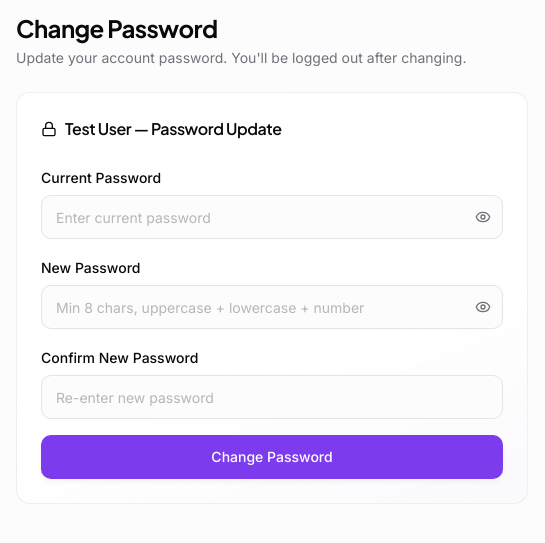
Test: ChangePasswordPage › shows validation error for short new password
This screenshot has width=545, height=543.
In the password field labelled "Current Password": (272, 217) [41,195,503,239], type "OldPass123"
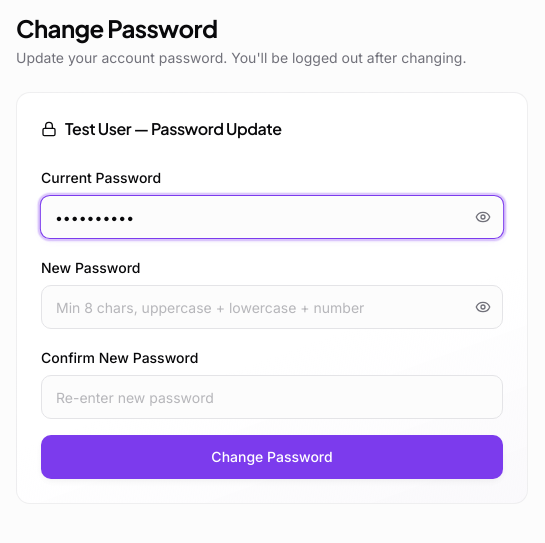
In the password field labelled "New Password": (272, 307) [41,285,503,329], type "short"
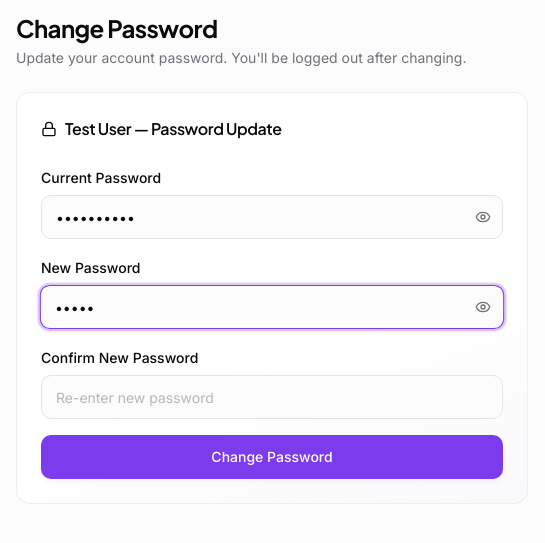
In the password field labelled "Confirm New Password": (272, 397) [41,375,503,419], type "short"
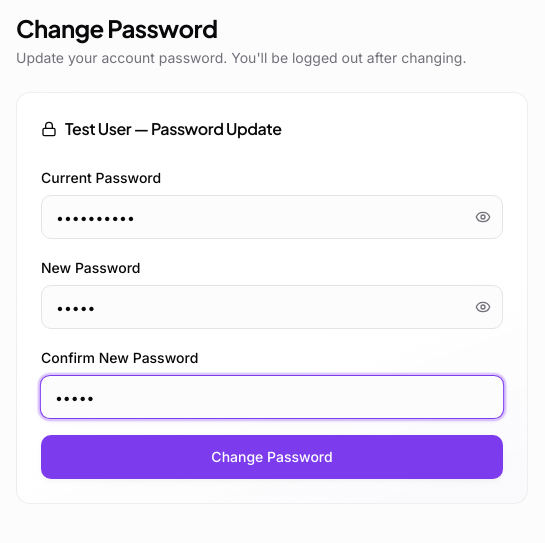
Click the button "Change Password": (272, 457) [41,435,503,479]
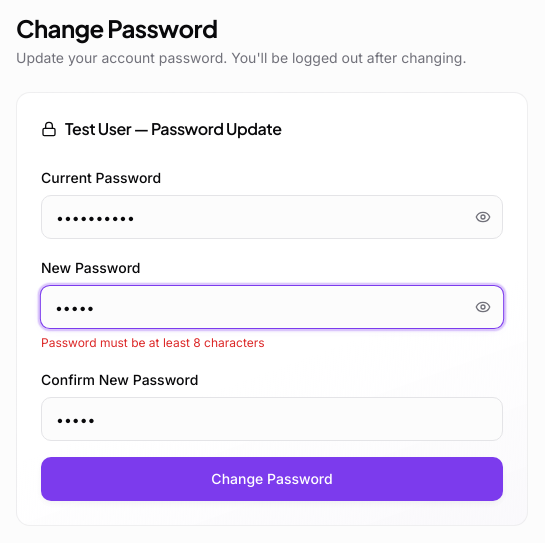
Expected: the text "Password must be at least 8 characters" is shown, [41,335,265,350]
